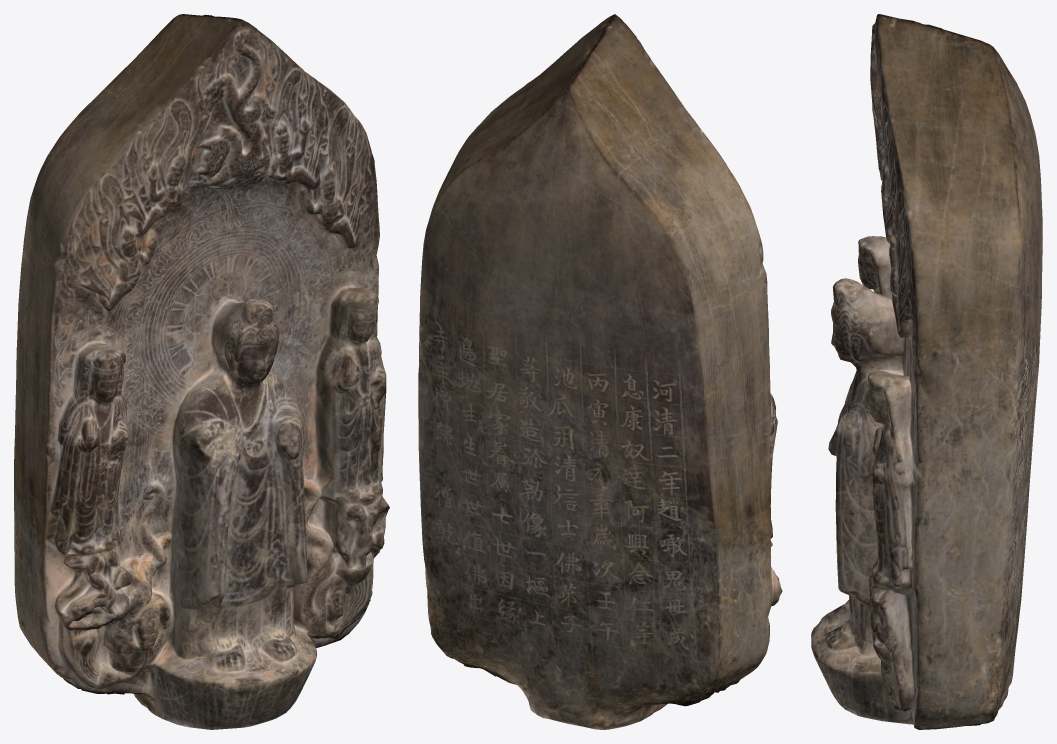
Rendered from maitreya-lod.glb.
The picture shows the model from 3 angles, left to right: view 1: azimuth 30°, elevation 25°; view 2: azimuth 150°, elevation 25°; view 3: azimuth 270°, elevation 25°; orthographic projection. The views are drawn at different scales.
Parts seen in each view (by area): view 1: Object_2; view 2: Object_2; view 3: Object_2.
Boxes of the visible parts, left/top/right/bottom form: Object_2: left=14, top=14, right=389, bottom=729; Object_2: left=418, top=14, right=782, bottom=729; Object_2: left=811, top=14, right=1042, bottom=729.
Size of the model in its own units: 0.2777 by 0.5459 by 0.1659.
Materials: 1 (1 with a texture image).
